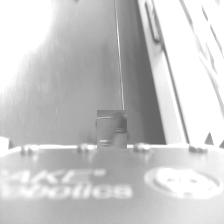Door Handle: (95, 111, 129, 147)
